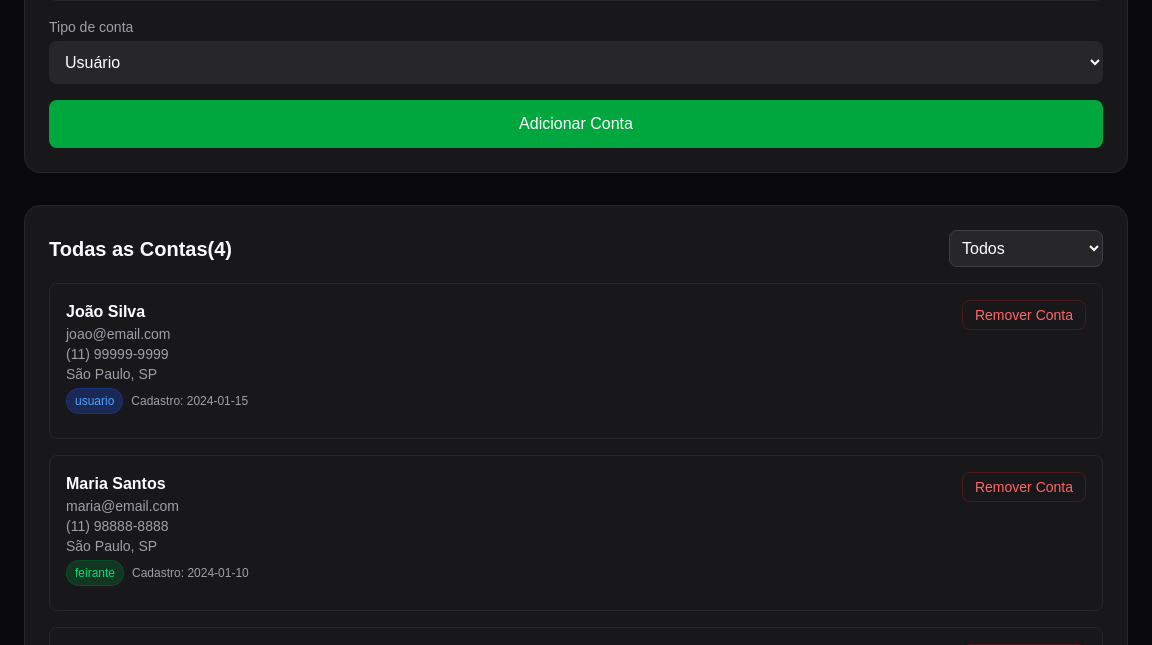
deve exibir mensagem quando não há contas
The width and height of the screenshot is (1152, 645).
(page scrolled)
Click the button "Remover Conta" in the row of "joao@email.com".
click(1024, 315)  # box [962,300,1086,330]
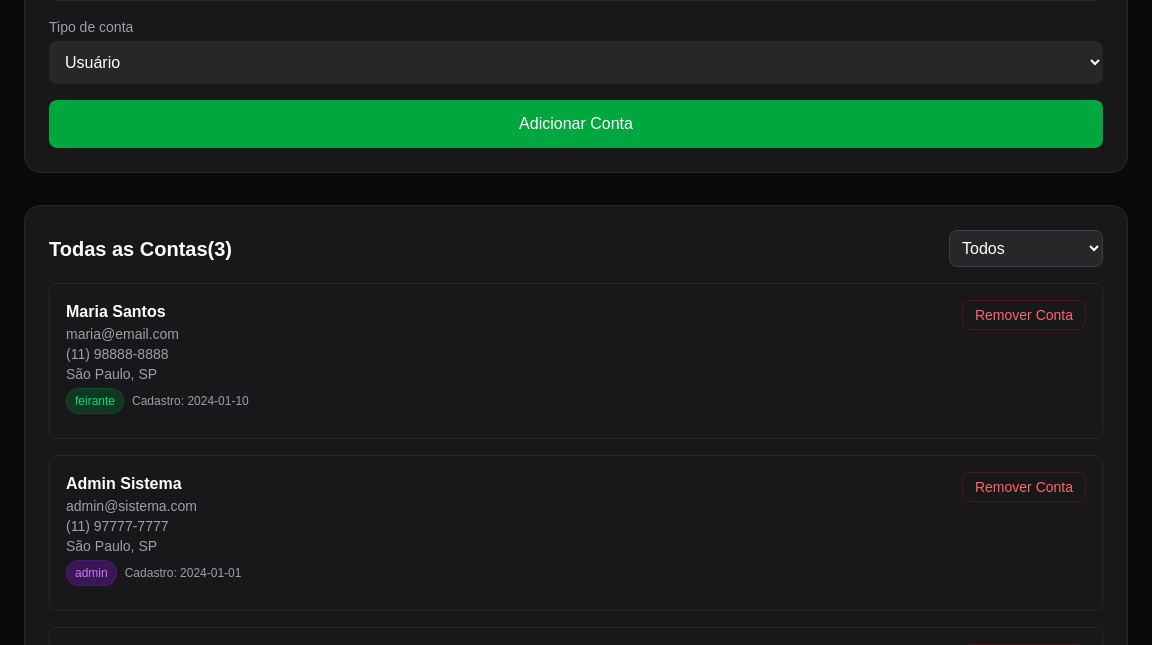
Click the button "Remover Conta" in the row of "maria@email.com".
click(1024, 315)  # box [962,300,1086,330]
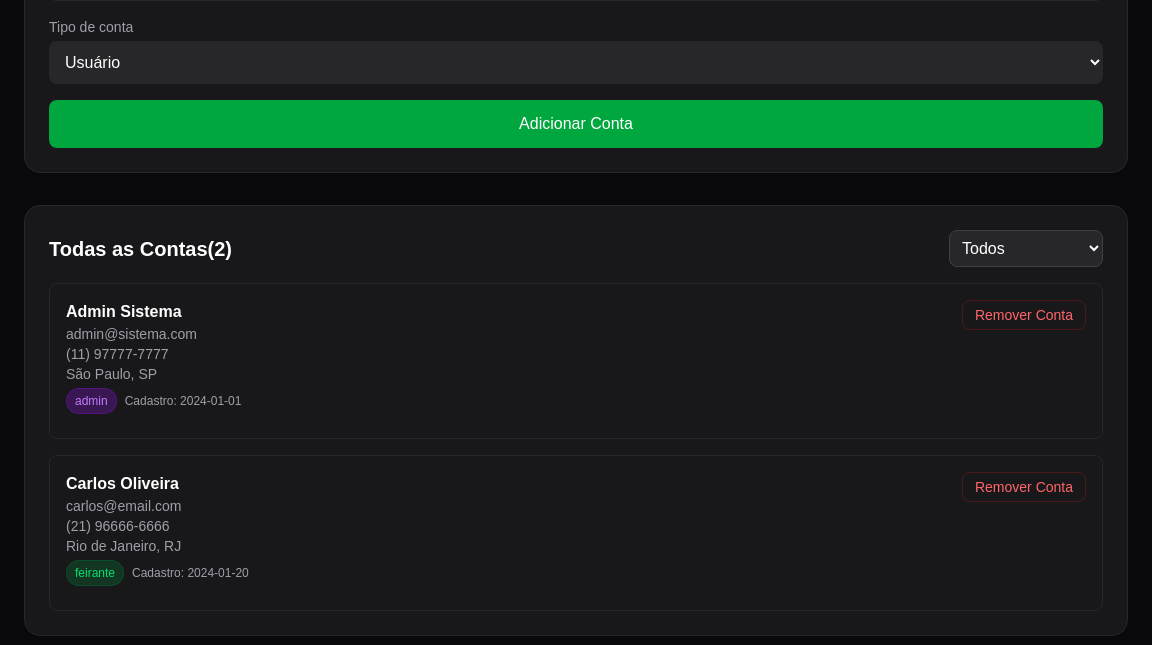
Click the button "Remover Conta" in the row of "admin@sistema.com".
click(1024, 315)  # box [962,300,1086,330]
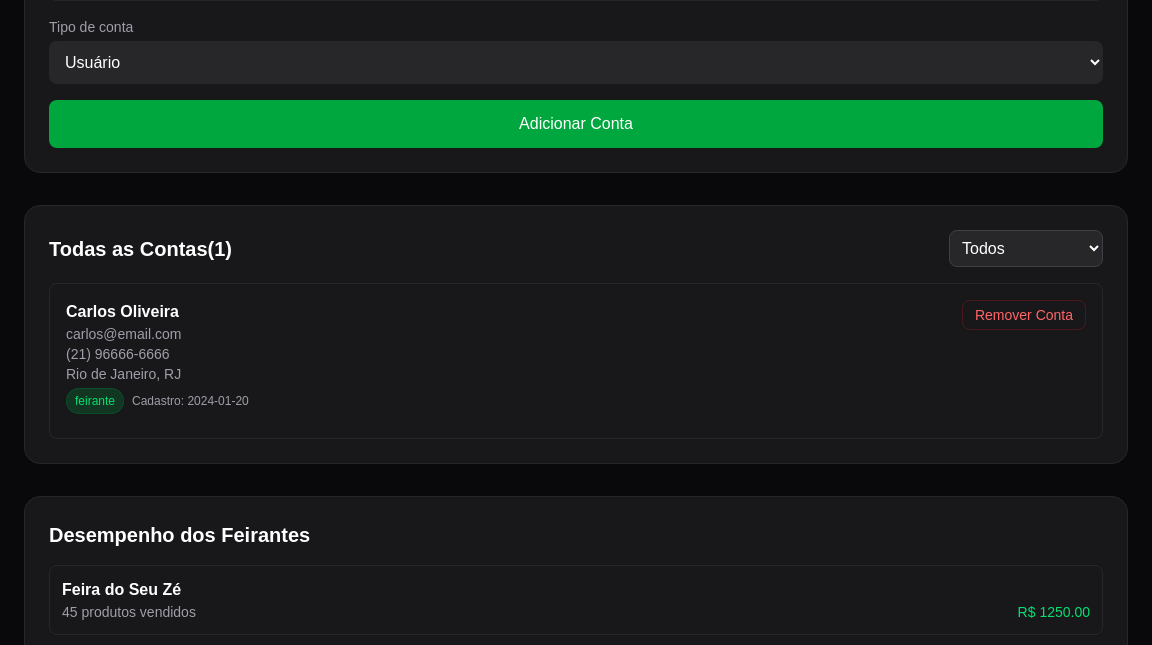
Click the button "Remover Conta".
click(1024, 315)  # box [962,300,1086,330]
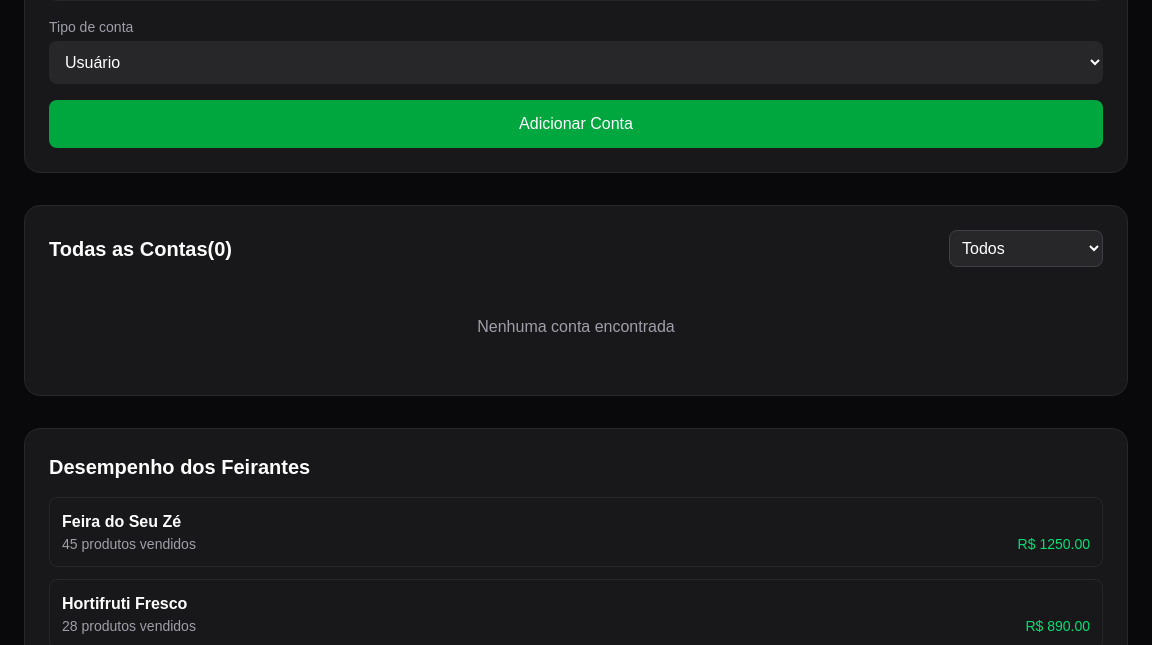
Expected: the text "Nenhuma conta encontrada" is shown, [477,318,675,335]
